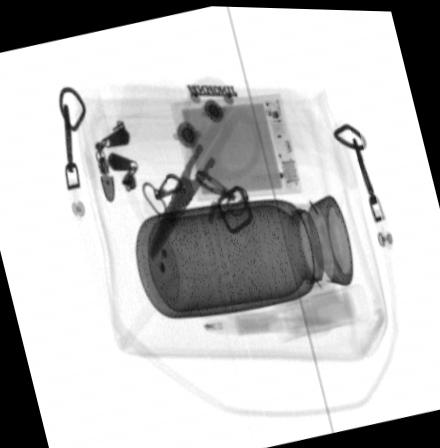Powerbank: (170, 90, 306, 203)
Scissors: (145, 68, 264, 268)
